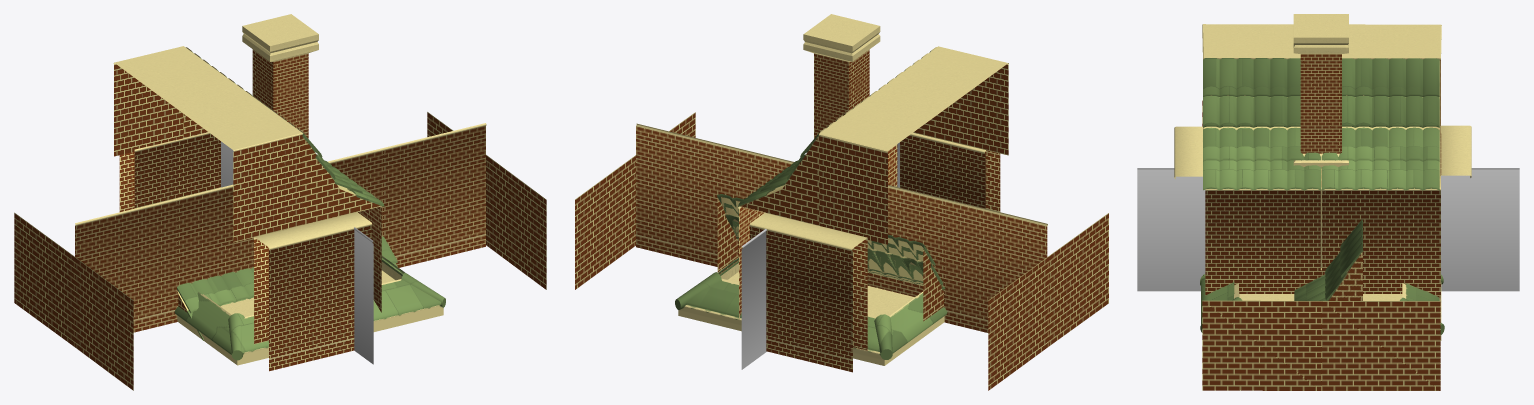
File: Industria.fbx
The picture shows the model from 3 angles, left to right: view 1: azimuth 30°, elevation 25°; view 2: azimuth 150°, elevation 25°; view 3: azimuth 270°, elevation 25°; orthographic projection.
Visible parts, largest first — view 1: IndustriaPequenaLowPoly, QuatroParedesLowPoly, ParedeTelhaLowPoly, TetoGrandeLowPoly, PilarLowPoly, TresParedesLowPoly, TelhaGrande02LowPoly, TelhaGrandeLowPoly; view 2: IndustriaPequenaLowPoly, QuatroParedesLowPoly, ParedeTelhaLowPoly, TetoGrandeLowPoly, PilarLowPoly, TresParedesLowPoly, TelhaGrandeLowPoly, TelhaGrande02LowPoly; view 3: IndustriaPequenaLowPoly, ParedeTelhaLowPoly, TresParedesLowPoly, PilarLowPoly, TetoGrandeLowPoly, TelhaGrande02LowPoly, TelhaGrandeLowPoly.
Part boxes in pixels (x1,y1,x2,y2): IndustriaPequenaLowPoly: [113, 46, 384, 371]; QuatroParedesLowPoly: [75, 123, 486, 332]; ParedeTelhaLowPoly: [14, 112, 546, 390]; TetoGrandeLowPoly: [174, 255, 445, 365]; PilarLowPoly: [242, 14, 318, 138]; TresParedesLowPoly: [221, 141, 373, 364]; TelhaGrande02LowPoly: [178, 236, 400, 312]; TelhaGrandeLowPoly: [177, 247, 395, 340]; IndustriaPequenaLowPoly: [738, 46, 1008, 372]; QuatroParedesLowPoly: [636, 123, 1047, 332]; ParedeTelhaLowPoly: [575, 112, 1108, 390]; TetoGrandeLowPoly: [675, 257, 947, 365]; PilarLowPoly: [803, 14, 880, 138]; TresParedesLowPoly: [741, 142, 899, 369]; TelhaGrandeLowPoly: [717, 194, 945, 291]; TelhaGrande02LowPoly: [717, 194, 943, 321]; IndustriaPequenaLowPoly: [1174, 24, 1471, 300]; ParedeTelhaLowPoly: [1202, 100, 1440, 390]; TresParedesLowPoly: [1137, 168, 1519, 291]; PilarLowPoly: [1293, 14, 1348, 168]; TetoGrandeLowPoly: [1200, 274, 1444, 340]; TelhaGrande02LowPoly: [1294, 219, 1363, 300]; TelhaGrandeLowPoly: [1295, 220, 1362, 300].
Bounding box in the file's own units: 805 × 497 × 648.
